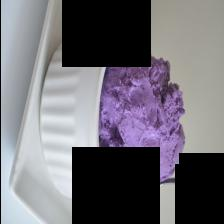purple: (98, 49, 184, 196)
